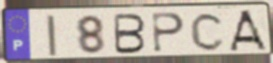8: (74, 14, 108, 56)
A: (227, 9, 270, 52)
B: (113, 13, 148, 56)
C: (189, 11, 227, 52)
I: (44, 13, 59, 58)
P: (150, 11, 186, 54)
